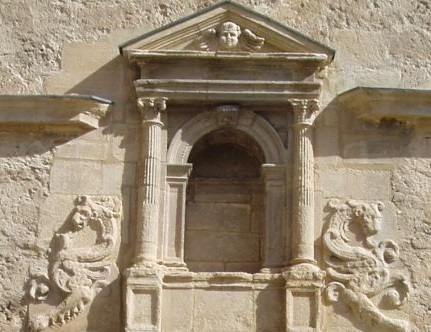arco-medio-punto: (179, 126, 273, 189)
fronton: (117, 1, 340, 70)
